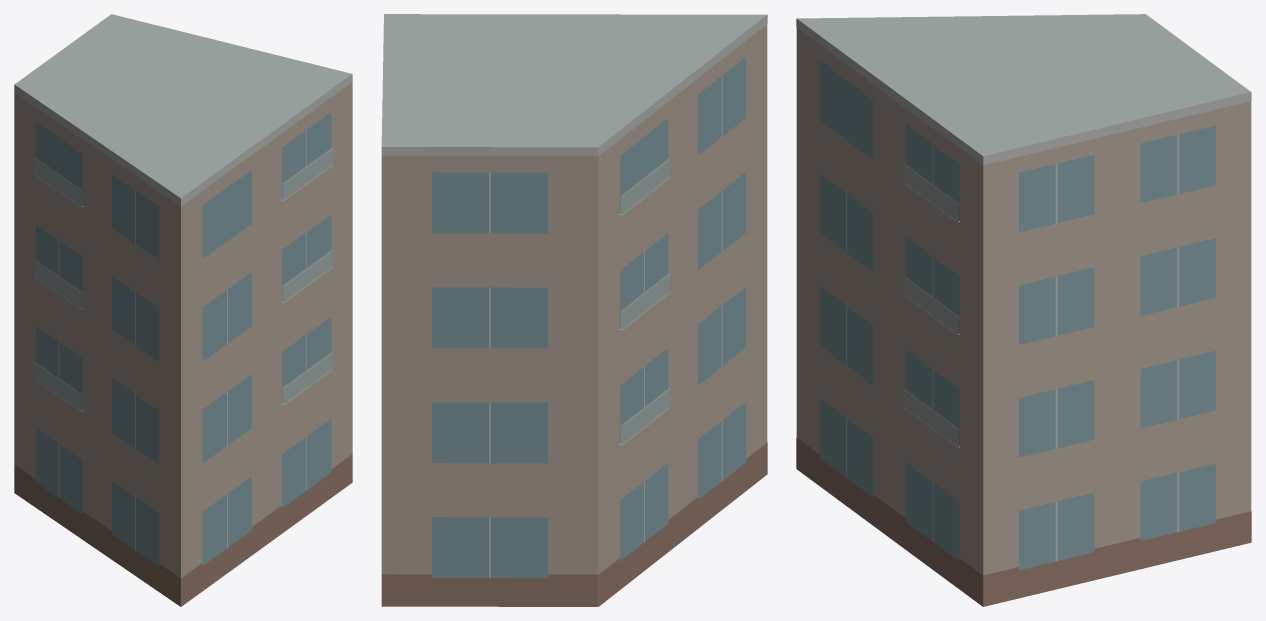
Rendered from survey-upis-32537762.glb.
3 renders of one model, left to right at view 1: azimuth 30°, elevation 25°; view 2: azimuth 150°, elevation 25°; view 3: azimuth 270°, elevation 25°, orthographic. The views are drawn at different scales.
Parts seen in each view (by area): view 1: survey-upis-32537762.tmp; view 2: survey-upis-32537762.tmp; view 3: survey-upis-32537762.tmp.
Part boxes in pixels (left/top/right/bottom): survey-upis-32537762.tmp: left=14, top=14, right=352, bottom=606; survey-upis-32537762.tmp: left=381, top=14, right=767, bottom=606; survey-upis-32537762.tmp: left=796, top=14, right=1251, bottom=606.
Size of the model in its own units: 8.27 by 12.2 by 11.17.
